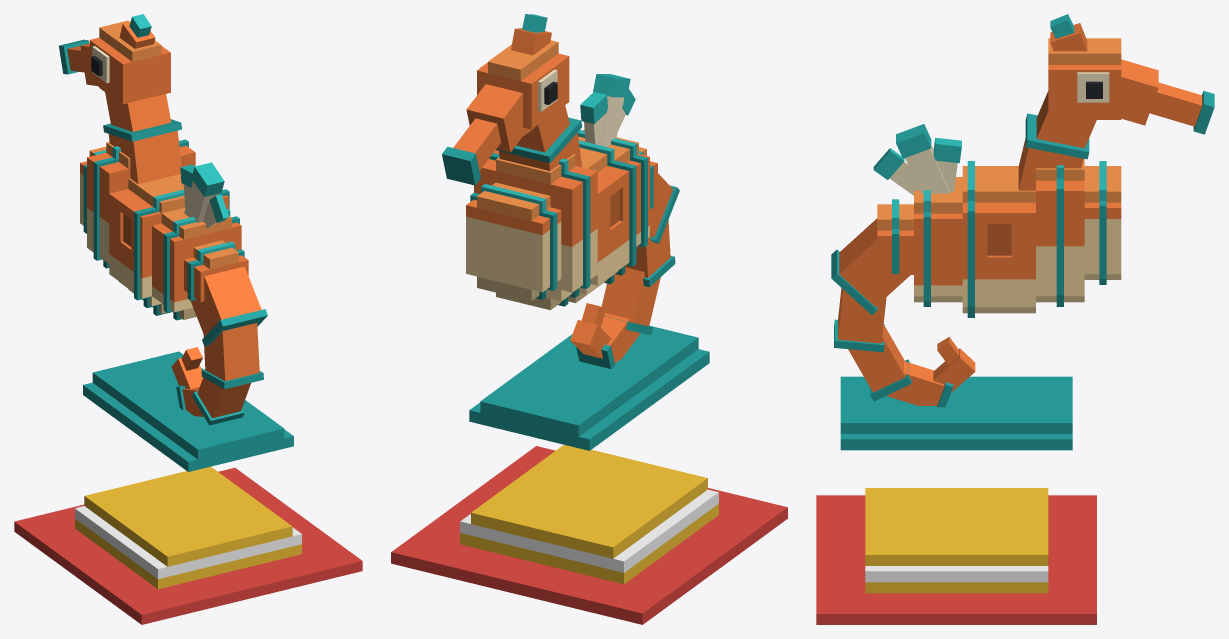
Rendered from SeahorseTrainer2.obj.
3 renders of one model, left to right at view 1: azimuth 30°, elevation 25°; view 2: azimuth 150°, elevation 25°; view 3: azimuth 270°, elevation 25°, orthographic. The views are drawn at different scales.
Visible parts, largest first — view 1: Stand, Body, Plate, Head, T1, T2, Fin, T3, T5, T4; view 2: Stand, Body, Plate, Head, Fin, T3, T4, T2, T1, T5; view 3: Stand, Body, Plate, Head, Fin, T1, T2, T3, T4, T5.
Part boxes in pixels (x1=…): Stand: x1=14, y1=466, x2=362, y2=624; Body: x1=80, y1=91, x2=248, y2=320; Plate: x1=83, y1=351, x2=293, y2=471; Head: x1=59, y1=14, x2=170, y2=104; T1: x1=190, y1=266, x2=267, y2=346; T2: x1=201, y1=323, x2=263, y2=389; Fin: x1=180, y1=162, x2=228, y2=228; T3: x1=192, y1=377, x2=250, y2=425; T5: x1=171, y1=358, x2=202, y2=388; T4: x1=176, y1=385, x2=203, y2=416; Stand: x1=391, y1=445, x2=787, y2=624; Body: x1=466, y1=105, x2=657, y2=310; Plate: x1=469, y1=325, x2=709, y2=450; Head: x1=442, y1=14, x2=569, y2=185; Fin: x1=580, y1=74, x2=635, y2=146; T3: x1=601, y1=267, x2=660, y2=334; T4: x1=576, y1=313, x2=640, y2=368; T2: x1=625, y1=220, x2=675, y2=287; T1: x1=650, y1=173, x2=679, y2=243; T5: x1=570, y1=320, x2=611, y2=358; Stand: x1=816, y1=488, x2=1096, y2=624; Body: x1=877, y1=91, x2=1121, y2=317; Plate: x1=840, y1=376, x2=1072, y2=450; Head: x1=1048, y1=14, x2=1214, y2=134; Fin: x1=873, y1=124, x2=961, y2=195; T1: x1=831, y1=218, x2=913, y2=314; T2: x1=834, y1=288, x2=886, y2=352; T3: x1=848, y1=324, x2=911, y2=401; T4: x1=886, y1=361, x2=953, y2=407; T5: x1=933, y1=348, x2=975, y2=392.
Size of the model in its own units: 9.2 by 19.85 by 13.06.
Materials: 1 (1 with a texture image).
